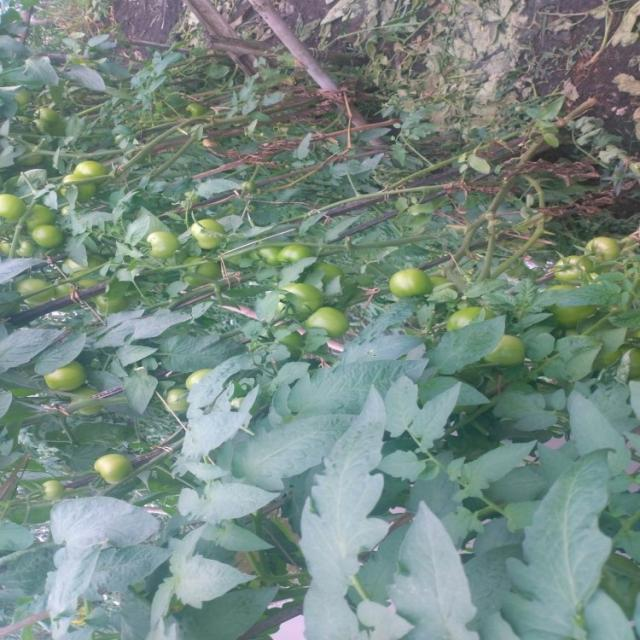tomato: (37, 347, 91, 403), (390, 258, 431, 325), (180, 247, 241, 291), (134, 215, 193, 258), (90, 447, 141, 496), (310, 297, 363, 341), (283, 276, 328, 326), (16, 271, 64, 316), (435, 301, 481, 345), (583, 234, 626, 276), (28, 213, 68, 256), (177, 362, 220, 401), (481, 331, 519, 375), (35, 97, 69, 145), (192, 217, 241, 249), (165, 381, 197, 425), (23, 203, 63, 235), (558, 256, 590, 292), (1, 189, 30, 220), (283, 241, 315, 269), (1, 232, 35, 257), (39, 474, 61, 506), (71, 154, 101, 176)
